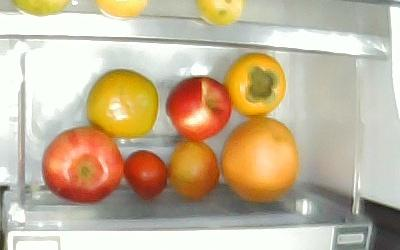apple: (41, 125, 123, 203), (165, 75, 231, 139)
grapefruit: (219, 116, 298, 202)
persimmon: (85, 67, 159, 138), (222, 51, 286, 117)
prune: (166, 138, 220, 200), (122, 149, 167, 199)
